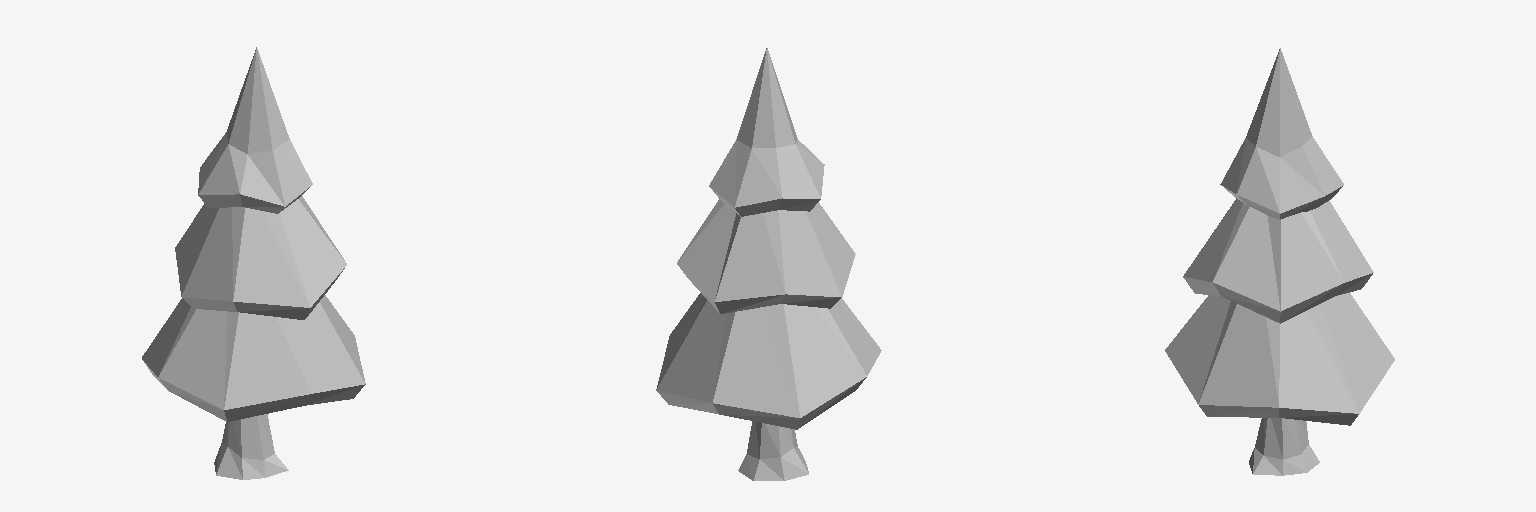
File: tree.obj
3 renders of one model, left to right at view 1: azimuth 30°, elevation 25°; view 2: azimuth 150°, elevation 25°; view 3: azimuth 270°, elevation 25°, orthographic.
Parts seen in each view (by area): view 1: Tree_Spruce_tiny_01; view 2: Tree_Spruce_tiny_01; view 3: Tree_Spruce_tiny_01.
Part boxes in pixels (bbox=[...]): Tree_Spruce_tiny_01: bbox=[142, 47, 365, 479]; Tree_Spruce_tiny_01: bbox=[656, 48, 881, 480]; Tree_Spruce_tiny_01: bbox=[1165, 48, 1394, 475].
Size of the model in its own units: 5.43 by 11.01 by 5.5.